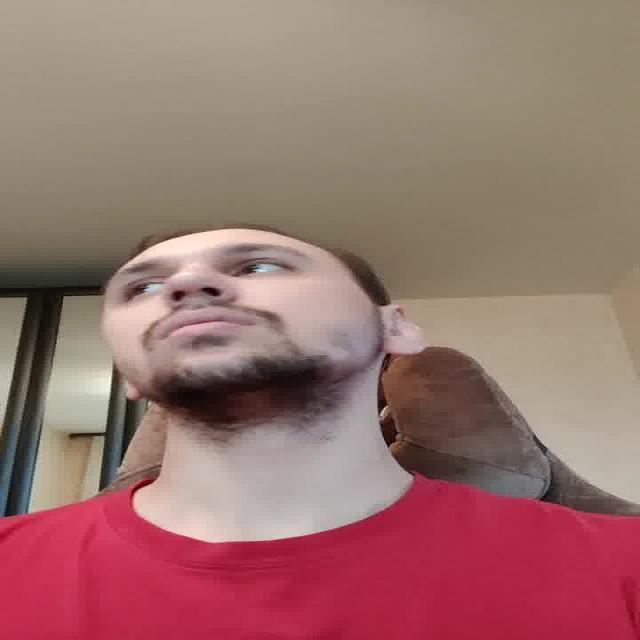earlobe: (383, 341, 427, 355), (121, 384, 144, 402)
eye: (230, 263, 296, 276), (125, 282, 165, 297)
nose: (163, 298, 240, 312)
wholeear: (381, 303, 428, 356)
